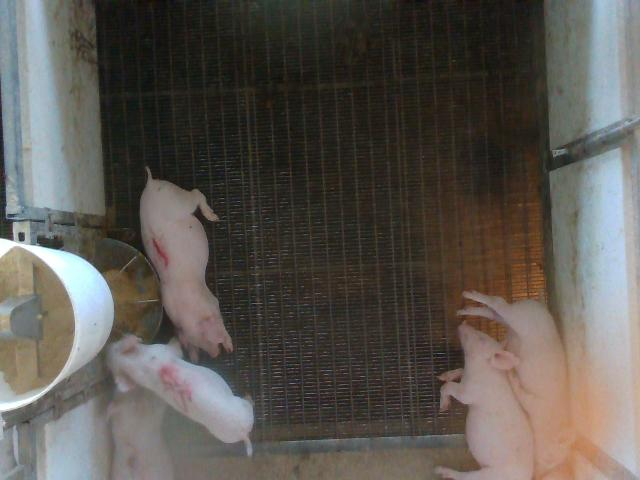pig-1: (140, 168, 232, 361)
pig-3: (108, 386, 174, 478)
pig-5: (108, 335, 254, 456)
